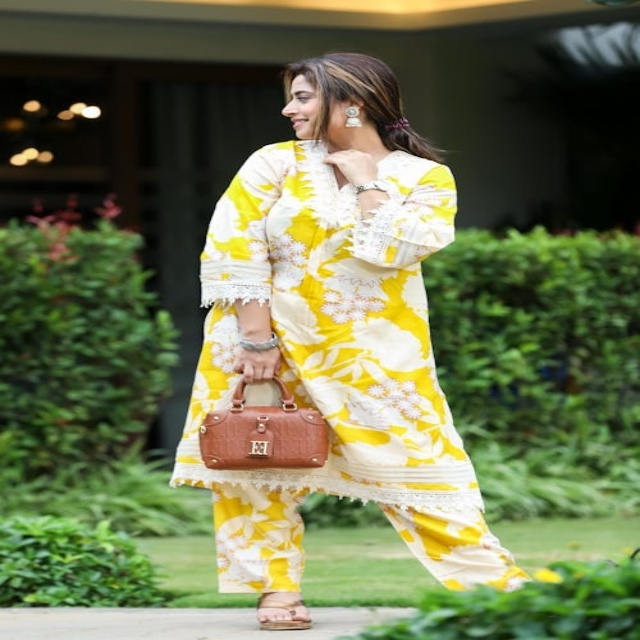Sin_gafas: (288, 88, 317, 103)
Sin_guantes: (325, 147, 383, 179), (232, 347, 283, 381)
Sin_mascara: (282, 111, 315, 136)
